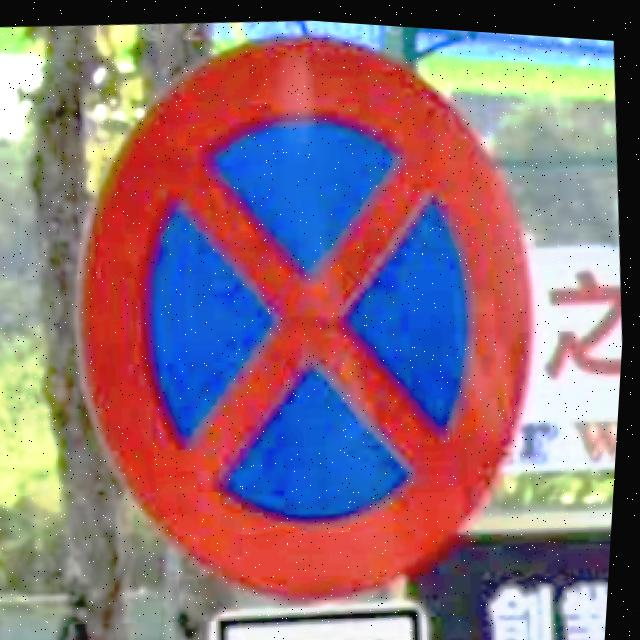nopark: (82, 27, 543, 599)
